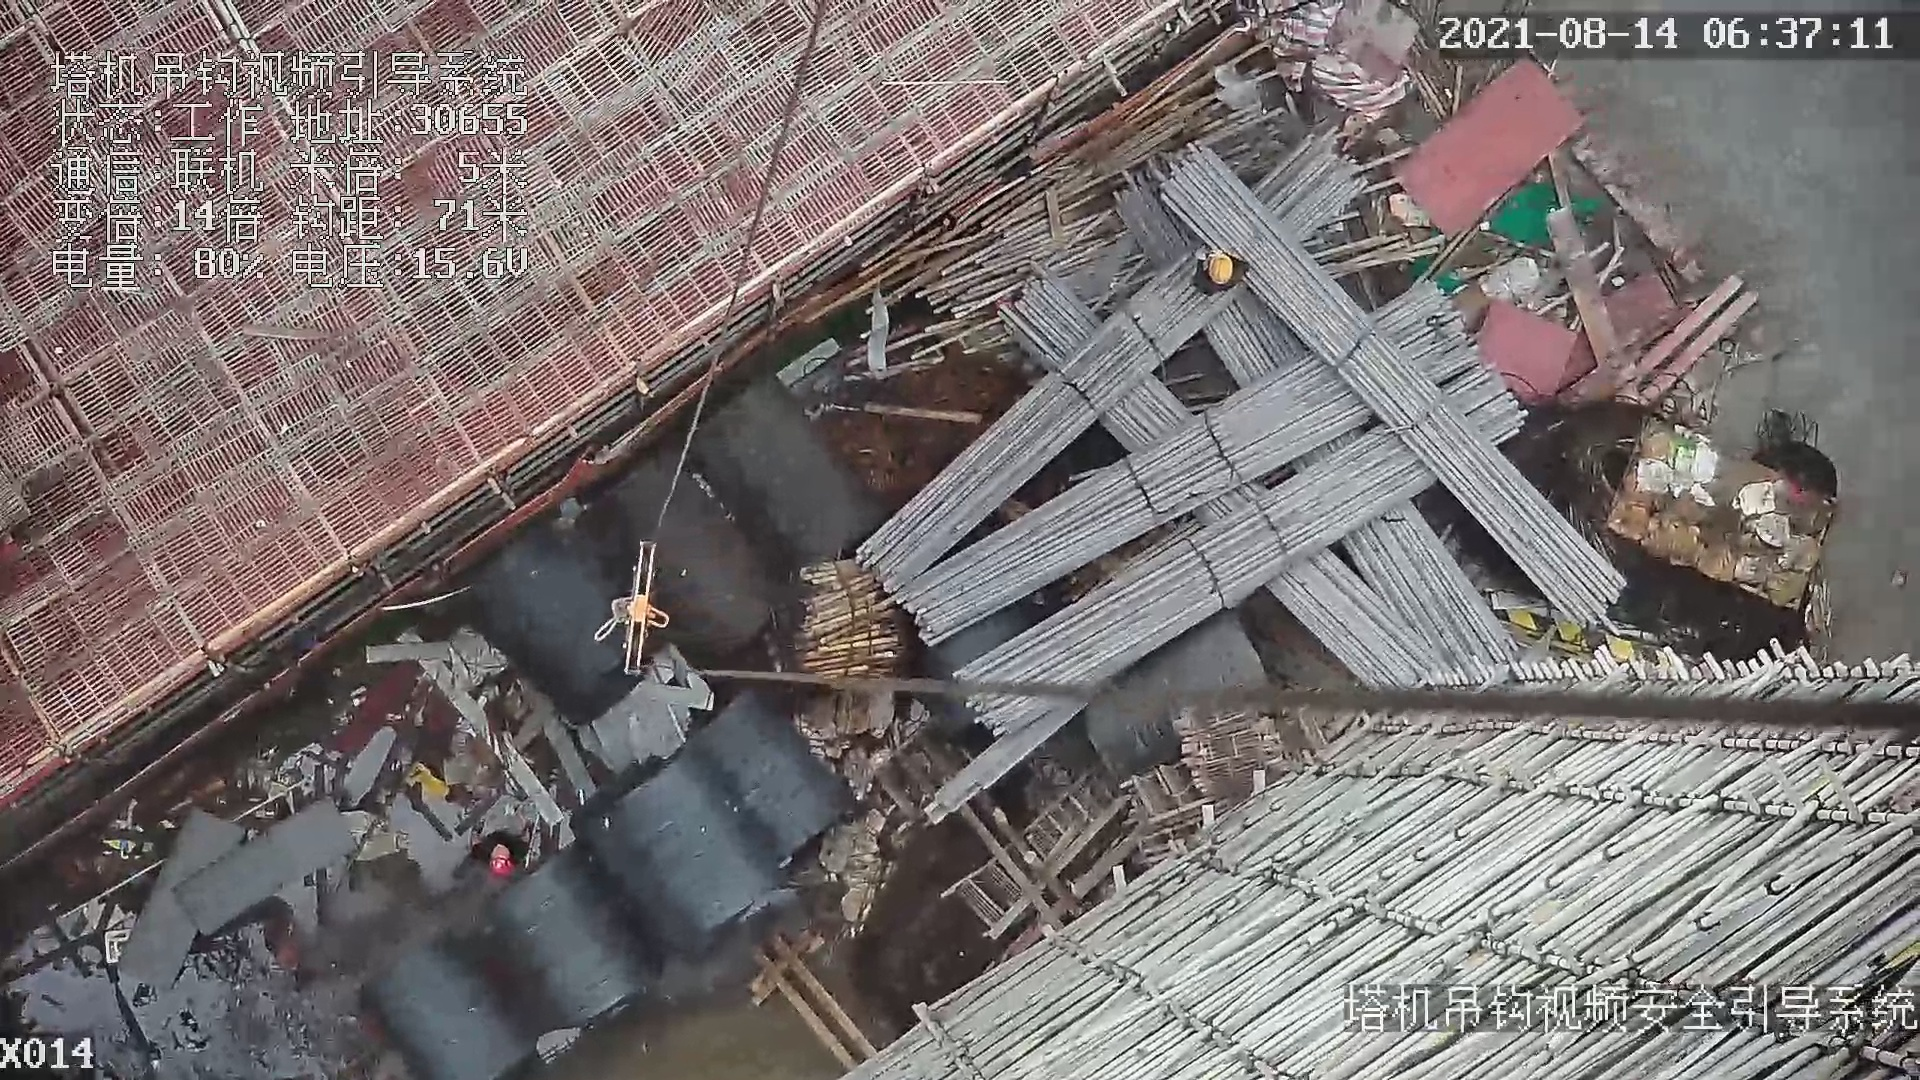helmet: (1206, 254, 1237, 286), (488, 853, 519, 877)
hook: (599, 522, 663, 691)
person: (464, 824, 540, 881), (1190, 242, 1254, 297)
scaffold: (908, 115, 1632, 721), (772, 556, 912, 676)
